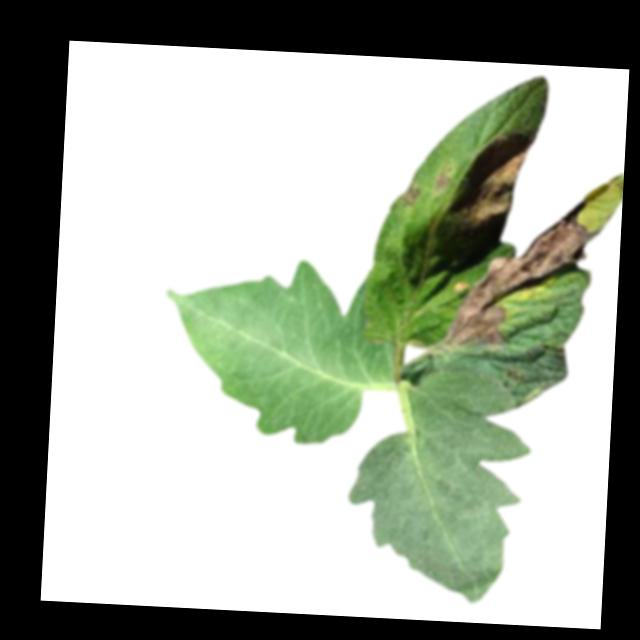Late_blight: (438, 196, 597, 355), (451, 129, 532, 243), (433, 156, 452, 194), (397, 183, 422, 206)
